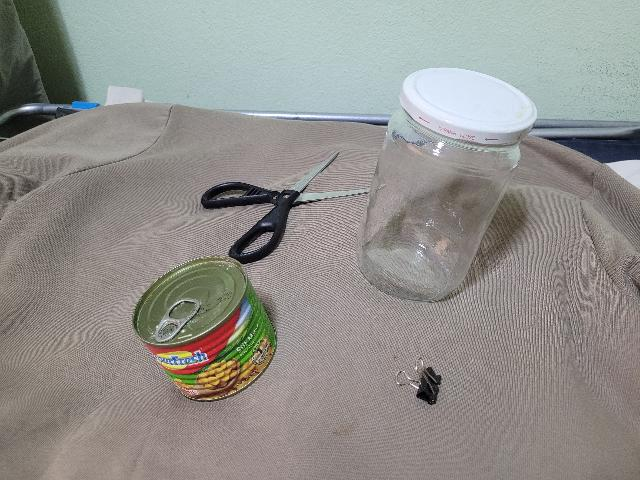Cam: (356, 133, 517, 306)
Metal: (132, 256, 281, 398), (406, 63, 545, 153), (294, 147, 370, 208), (393, 353, 448, 410)
Plastik: (201, 180, 298, 261)
